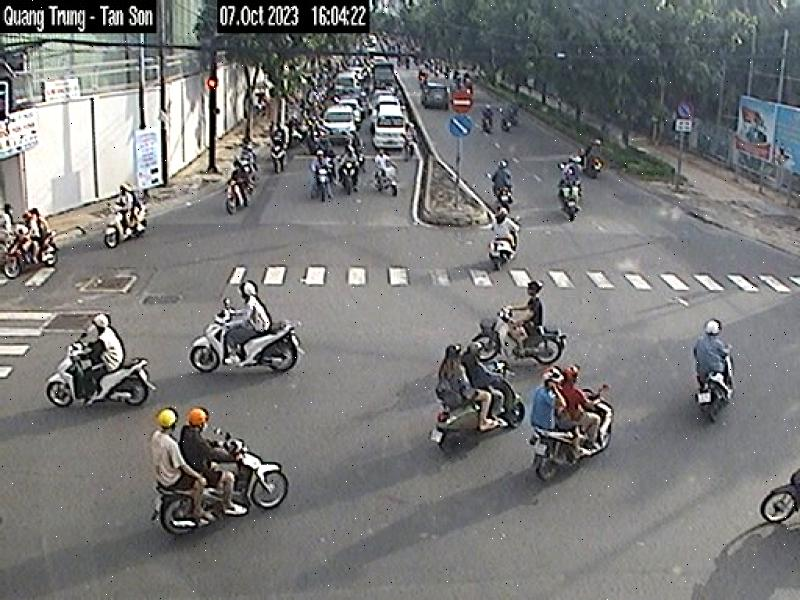motorcycle: (156, 432, 290, 541), (48, 340, 161, 407), (193, 311, 303, 375), (473, 310, 568, 364), (527, 427, 592, 486)
